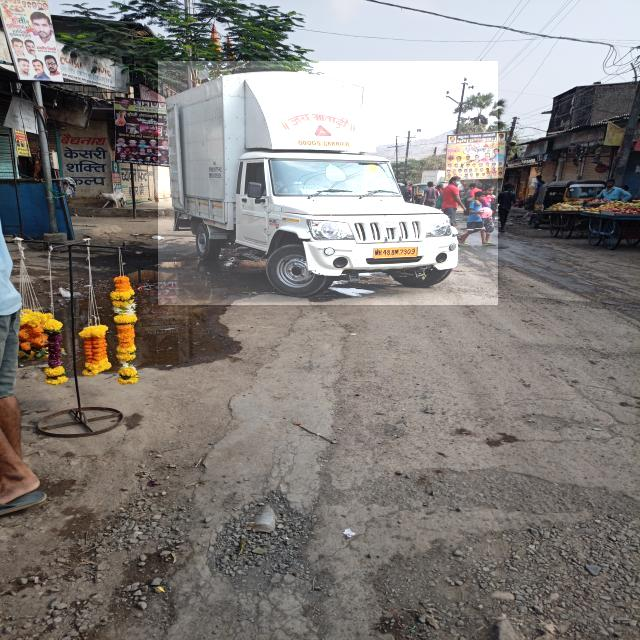Travller: (158, 61, 498, 305)
